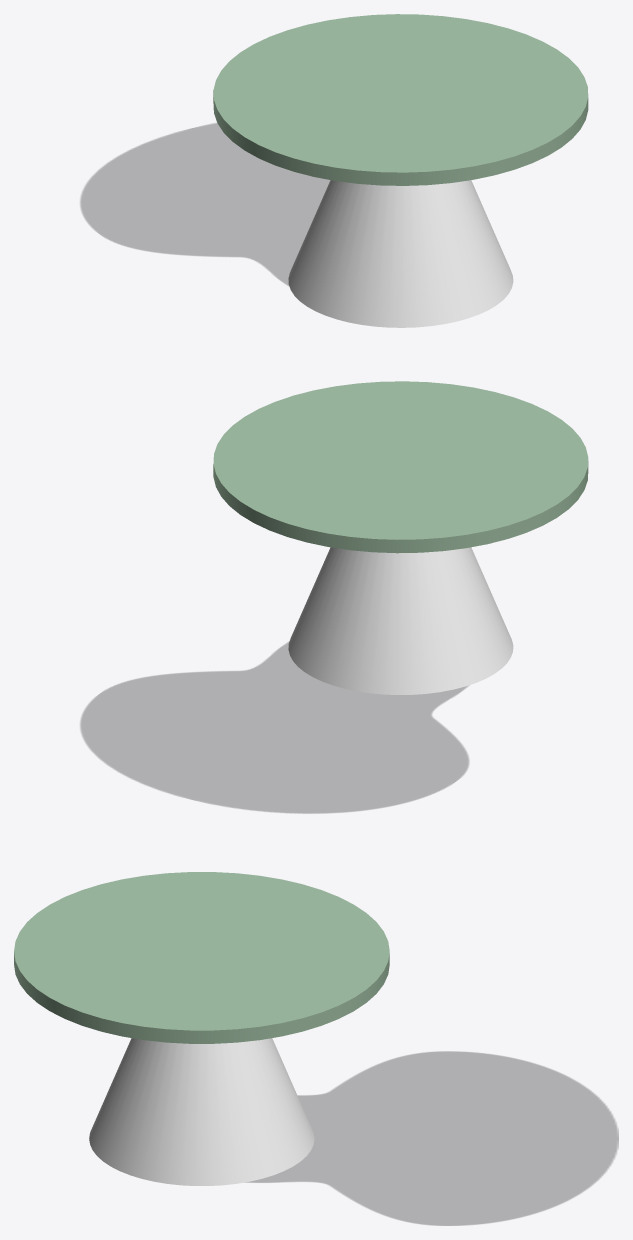
File: block_02.glb
3 renders of one model, top to bottom at view 1: azimuth 30°, elevation 25°; view 2: azimuth 150°, elevation 25°; view 3: azimuth 270°, elevation 25°, orthographic.
Visible parts, largest first — view 1: hitObj, Object3D, block; view 2: hitObj, block, Object3D; view 3: hitObj, block, Object3D.
Part boxes in pixels (<box>): hitObj: <box>213,14,588,185</box>; Object3D: <box>288,180,513,327</box>; block: <box>80,123,329,285</box>; hitObj: <box>213,381,588,553</box>; block: <box>80,642,468,813</box>; Object3D: <box>288,547,513,694</box>; hitObj: <box>14,872,389,1043</box>; block: <box>247,1051,618,1225</box>; Object3D: <box>89,1038,314,1185</box>.
Size of the model in its own units: 11 by 5.5 by 16.1.
3 materials, 1 textured.
